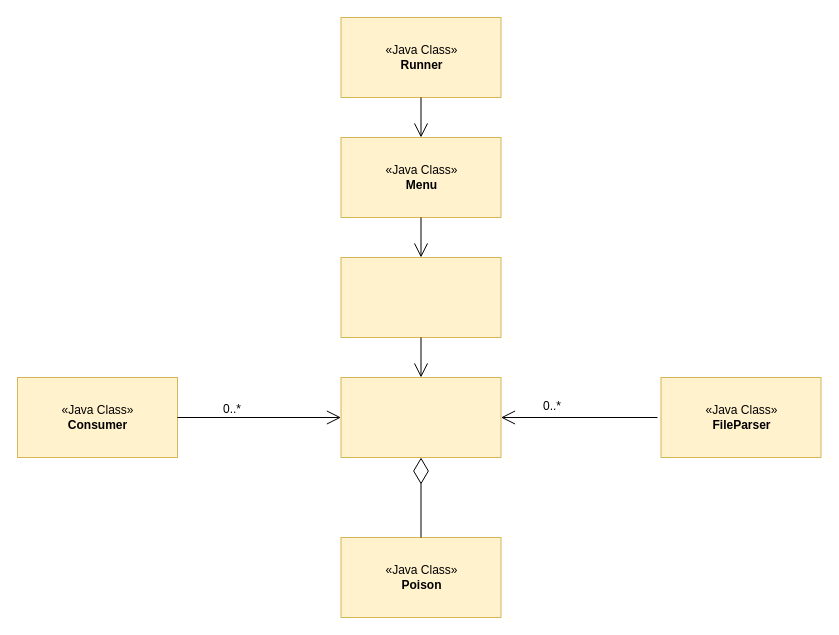
This 839x635 diagram has some shape labels left out. Each missing label, with the box of its shape:
«Java Class» Processor: (340, 256, 501, 338)
«Java Class» Word: (340, 376, 501, 458)
